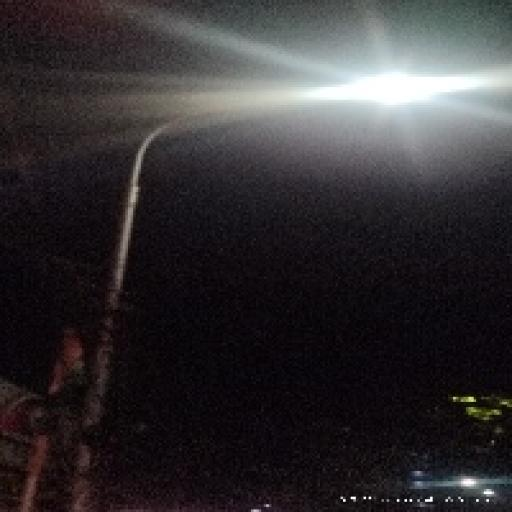Working: (297, 62, 505, 114)
